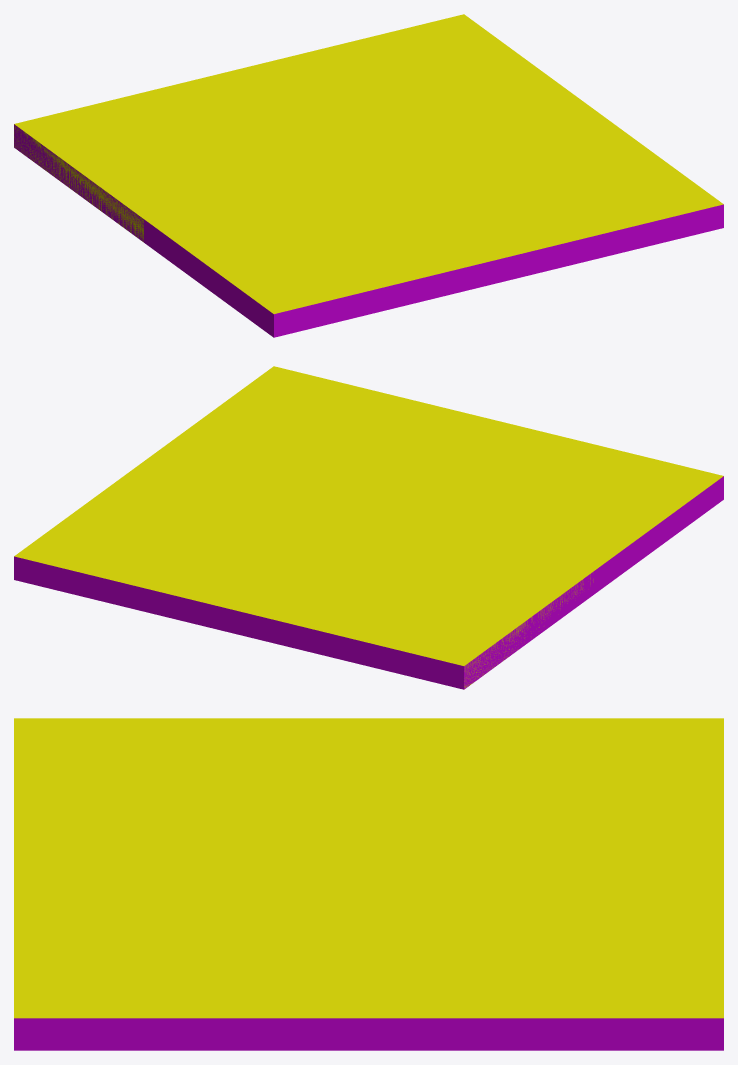
File: Floors.fbx
3 renders of one model, top to bottom at view 1: azimuth 30°, elevation 25°; view 2: azimuth 150°, elevation 25°; view 3: azimuth 270°, elevation 25°, orthographic. The views are drawn at different scales.
Visible parts, largest first — view 1: Floor, HalfFloor, QuarterFloor; view 2: Floor, HalfFloor, QuarterFloor; view 3: Floor, HalfFloor, QuarterFloor.
Part boxes in pixels (x1=…): Floor: x1=14, y1=14, x2=723, y2=337; HalfFloor: x1=15, y1=69, x2=498, y2=337; QuarterFloor: x1=14, y1=70, x2=367, y2=241; Floor: x1=14, y1=366, x2=723, y2=689; HalfFloor: x1=239, y1=422, x2=721, y2=688; QuarterFloor: x1=240, y1=516, x2=593, y2=689; Floor: x1=14, y1=718, x2=723, y2=1050; HalfFloor: x1=14, y1=718, x2=723, y2=868; QuarterFloor: x1=369, y1=718, x2=723, y2=868.
Size of the model in its own units: 1000 by 50 by 1000.
